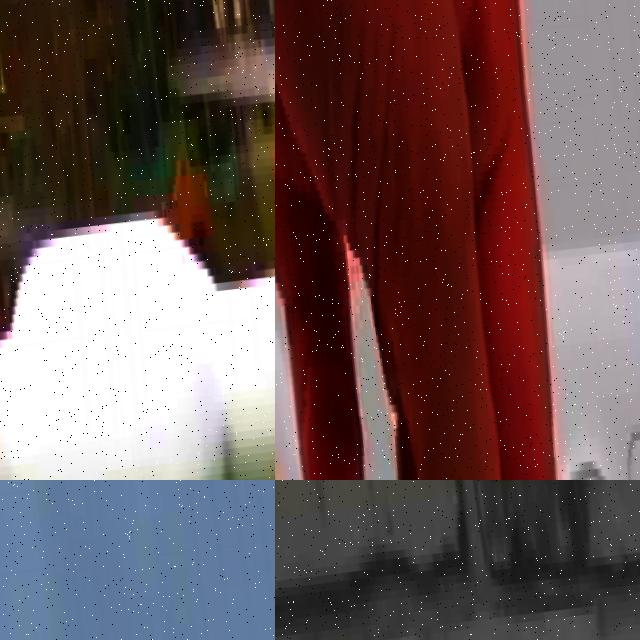drone: (275, 0, 640, 480), (0, 0, 275, 480)
